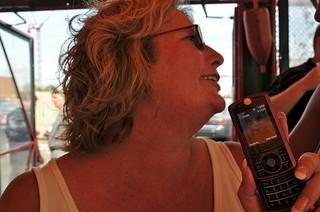car: (190, 96, 233, 142), (48, 105, 68, 159), (4, 108, 31, 142), (0, 100, 19, 124)
